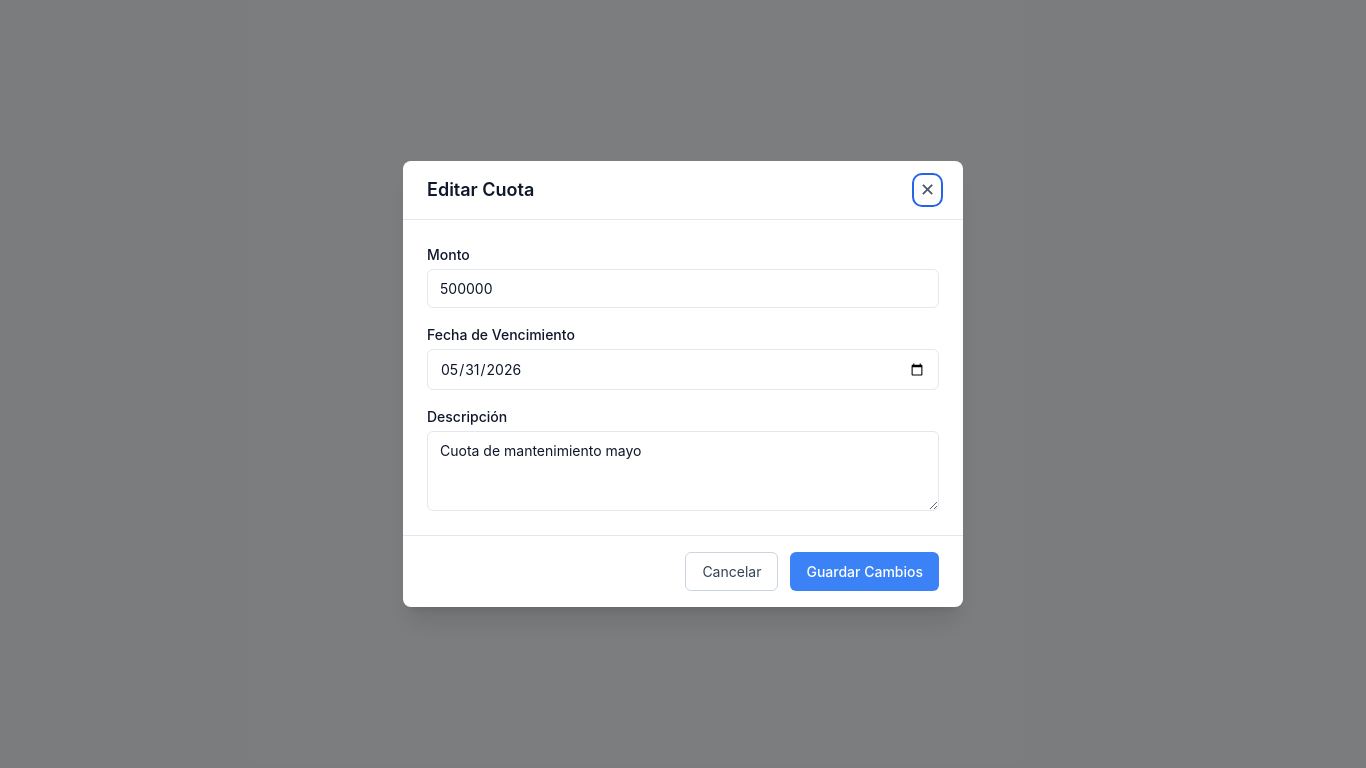
Scenario: FeeEditModal › shows Guardando... when submitting
What coordinates should you click on to do the following:
click the button "Guardar Cambios"
I would click on:
 (865, 572)
Its box is [790,552,939,591].
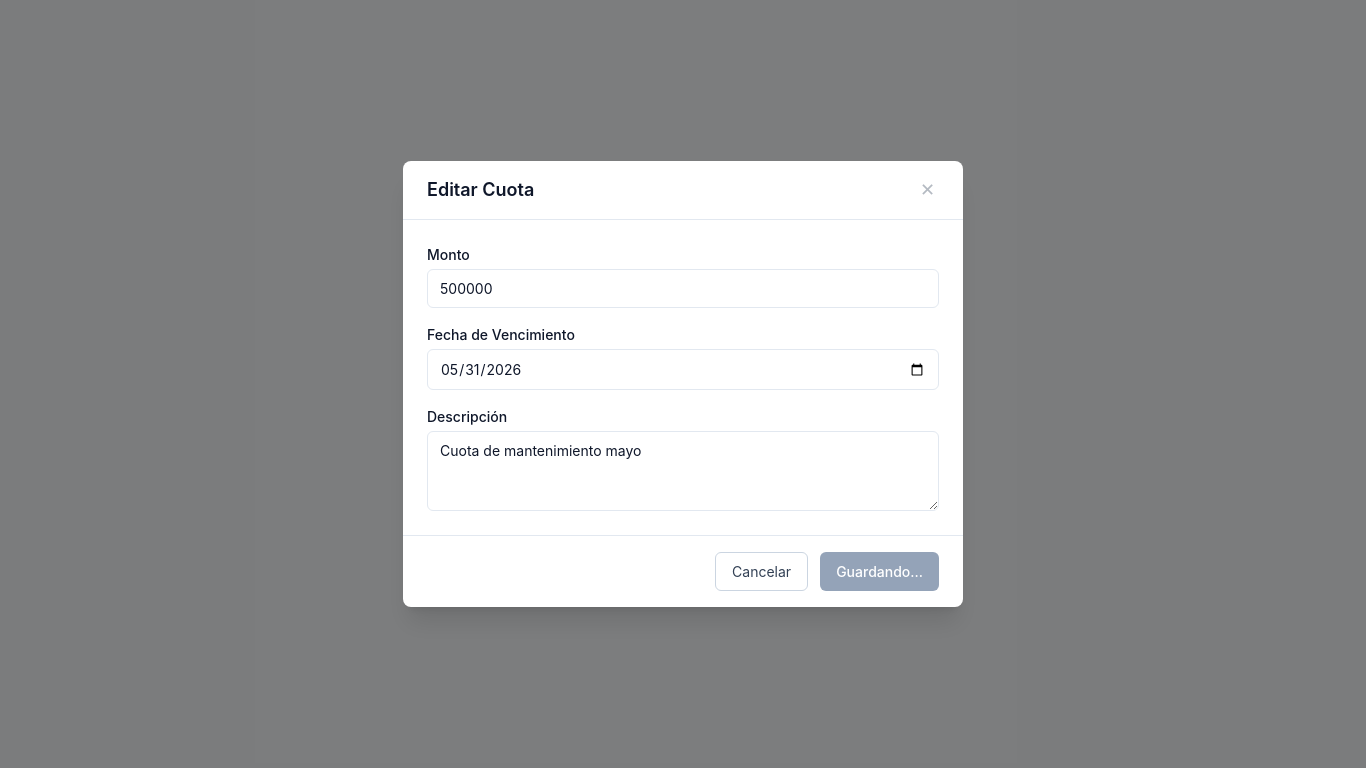
Expected: the button "Guardando..." is shown, [820,552,939,591]
